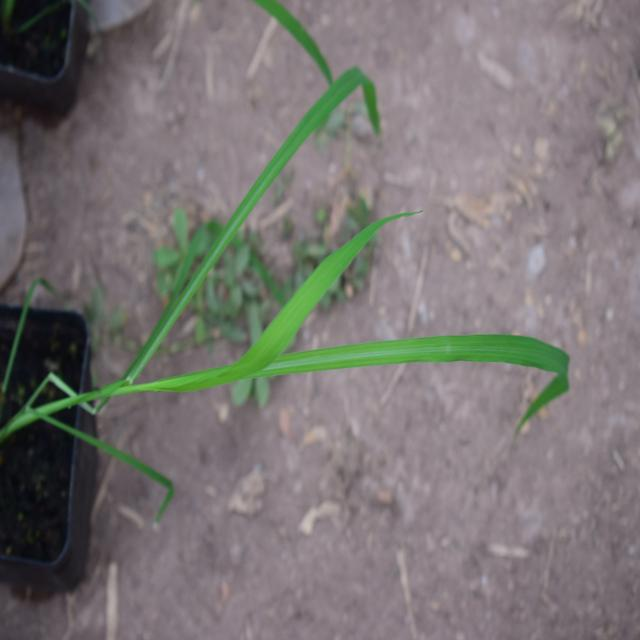barnyard_grass: (68, 23, 560, 480)
